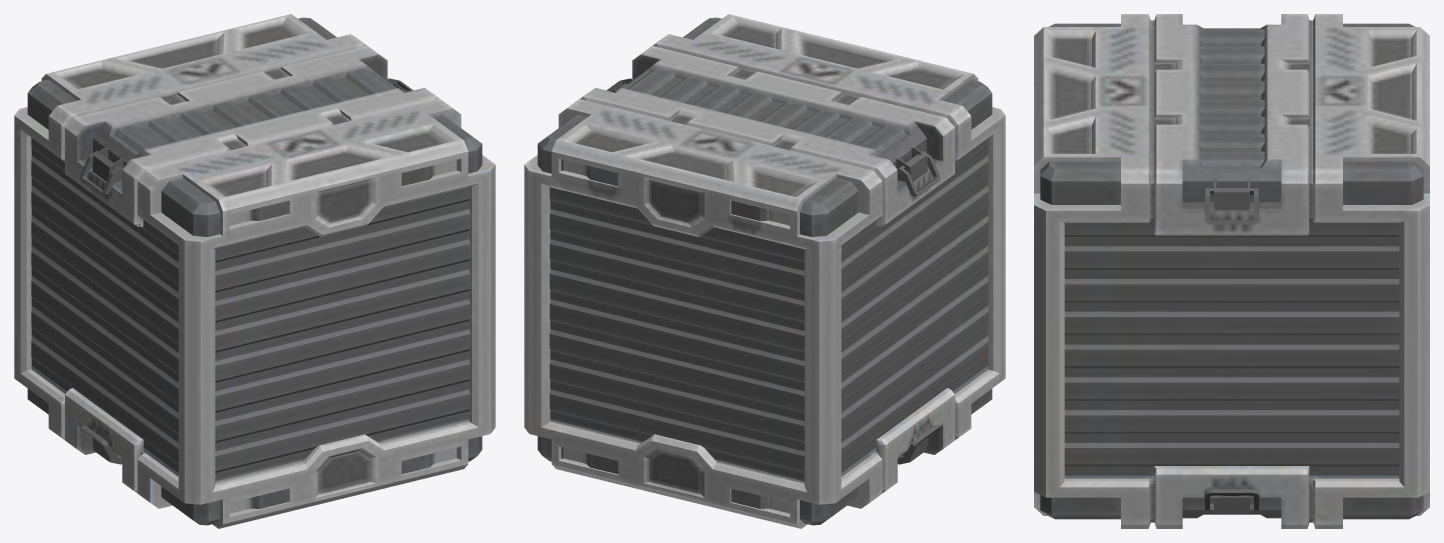
3 renders of one model, left to right at view 1: azimuth 30°, elevation 25°; view 2: azimuth 150°, elevation 25°; view 3: azimuth 270°, elevation 25°, orthographic. The views are drawn at different scales.
Parts seen in each view (by area): view 1: Prop_Crate; view 2: Prop_Crate; view 3: Prop_Crate.
Boxes of the visible parts, left/top/right/bottom form: Prop_Crate: left=14, top=14, right=495, bottom=528; Prop_Crate: left=524, top=14, right=1005, bottom=528; Prop_Crate: left=1034, top=14, right=1429, bottom=528.
Bounding box in the file's own units: 1.1 × 1.05 × 1.05.
1 material, 1 textured.
